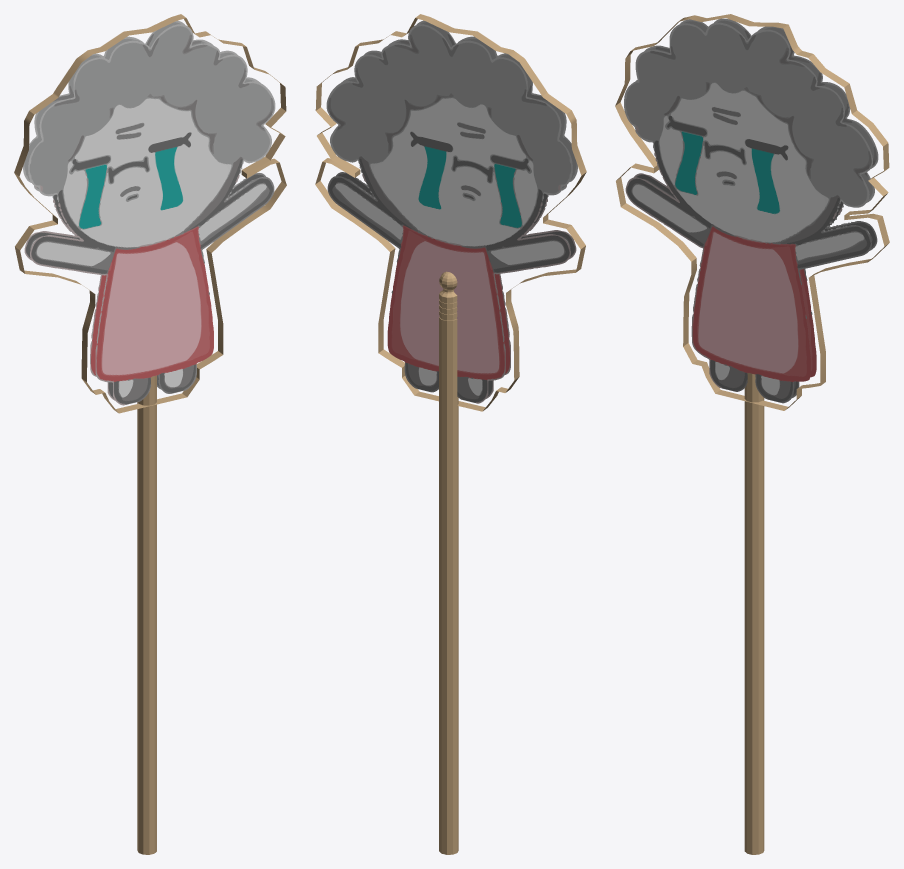
File: Escena6_Abuelita.fbx
3 views of the same model, side by side, from view 1: azimuth 30°, elevation 25°; view 2: azimuth 150°, elevation 25°; view 3: azimuth 330°, elevation 25° (orthographic).
Visible parts, largest first — view 1: SCN06_02; view 2: SCN06_02; view 3: SCN06_02.
Part boxes in pixels (x1,y1,x2,y2): SCN06_02: [14, 14, 286, 854]; SCN06_02: [315, 14, 586, 854]; SCN06_02: [615, 14, 889, 854].
Size of the model in its own units: 0.0516 by 0.1527 by 0.00336.
